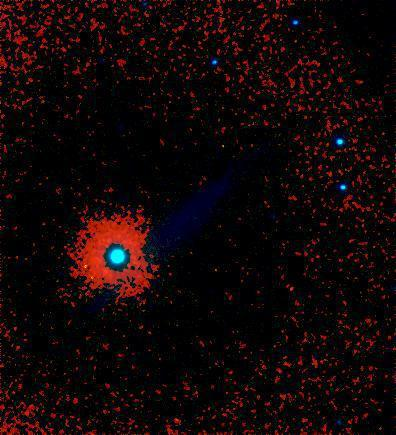star: (277, 272, 307, 302)
